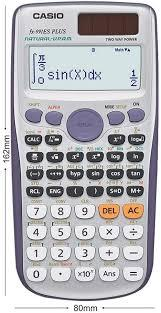Calculator: (8, 0, 161, 311)
